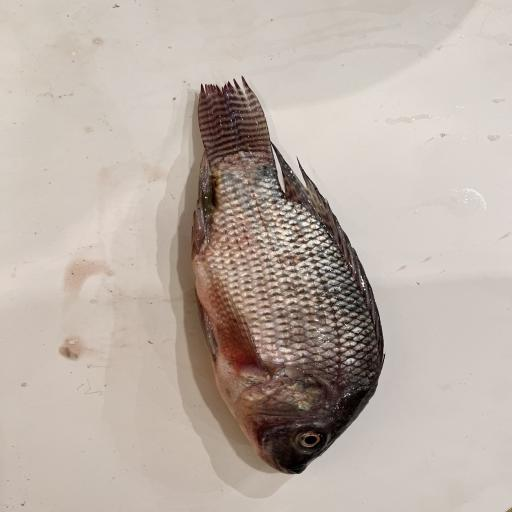Tilapia: (191, 76, 386, 475)
